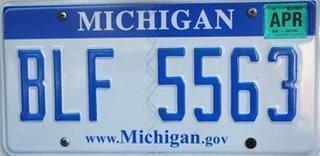placa de veiculo: (6, 1, 315, 149)
